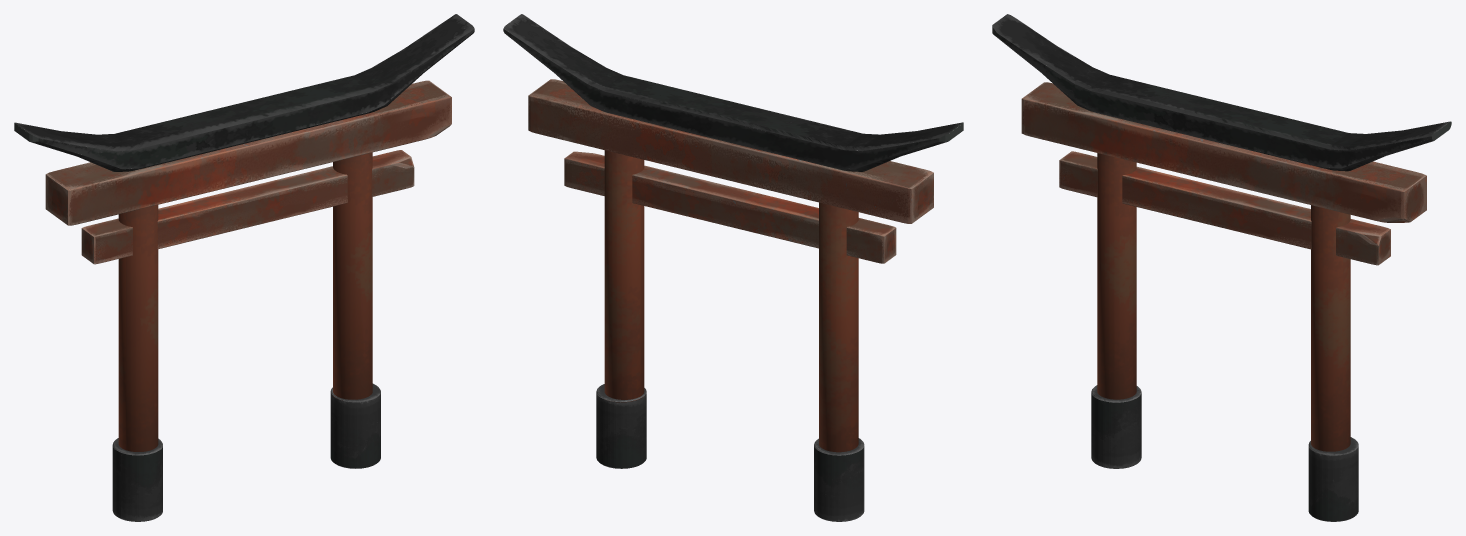
The model's file is door.fbx.
The picture shows the model from 3 angles, left to right: view 1: azimuth 30°, elevation 25°; view 2: azimuth 150°, elevation 25°; view 3: azimuth 330°, elevation 25°; orthographic projection.
Parts seen in each view (by area): view 1: pillar, doorcube01or02.001, DOORCUBE03, doorcube01or02, pillar02; view 2: pillar, doorcube01or02.001, DOORCUBE03, doorcube01or02, pillar02; view 3: pillar, doorcube01or02.001, DOORCUBE03, doorcube01or02, pillar02.
Boxes of the visible parts, <box> form: pillar: <box>118,152,372,451</box>; doorcube01or02.001: <box>45,80,451,225</box>; DOORCUBE03: <box>14,14,474,171</box>; doorcube01or02: <box>81,150,414,264</box>; pillar02: <box>112,383,380,521</box>; pillar: <box>604,150,858,452</box>; doorcube01or02.001: <box>528,79,933,223</box>; DOORCUBE03: <box>503,14,963,171</box>; doorcube01or02: <box>564,151,896,263</box>; pillar02: <box>596,384,864,521</box>; pillar: <box>1097,153,1350,451</box>; doorcube01or02.001: <box>1021,82,1426,222</box>; DOORCUBE03: <box>992,14,1451,171</box>; doorcube01or02: <box>1059,151,1390,265</box>; pillar02: <box>1091,385,1358,521</box>.
Bounding box in the file's own units: 3990 × 3547 × 402.
